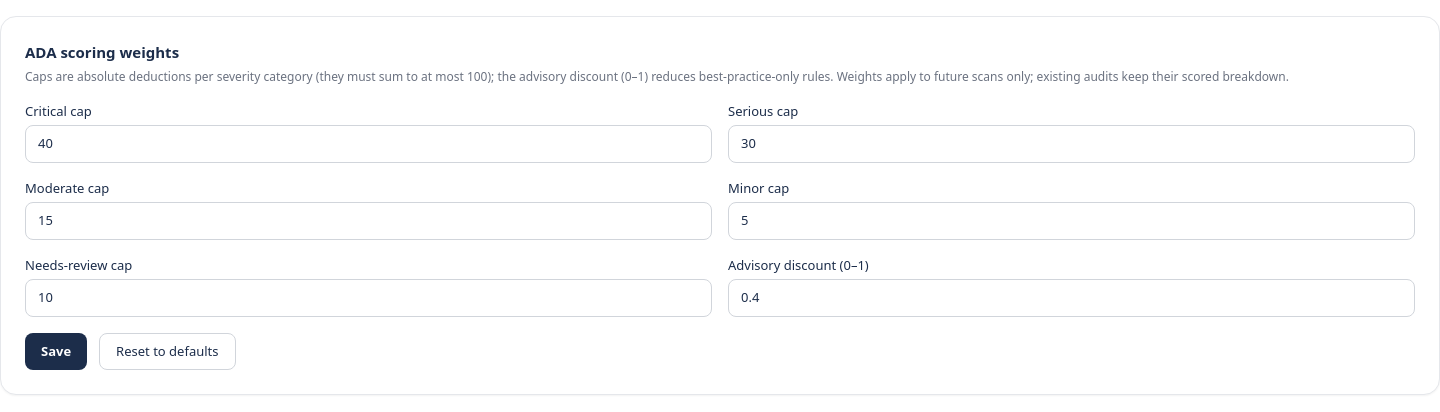
it: AdaScoringWeightsCard › Reset to defaults restores DEFAULT_ADA_V4_WEIGHTS in the inputs
The width and height of the screenshot is (1440, 412).
Replace the text in the number field labelled "Critical cap" with "99": {"x": 368, "y": 144} [25,125,712,162]
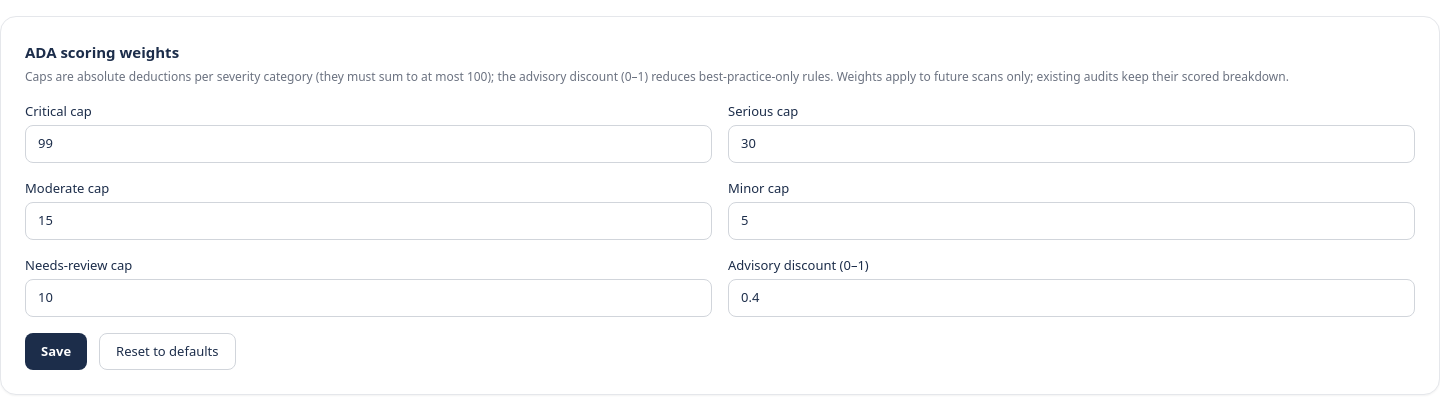
Click the button "Reset to defaults": {"x": 167, "y": 351} [99,332,236,370]
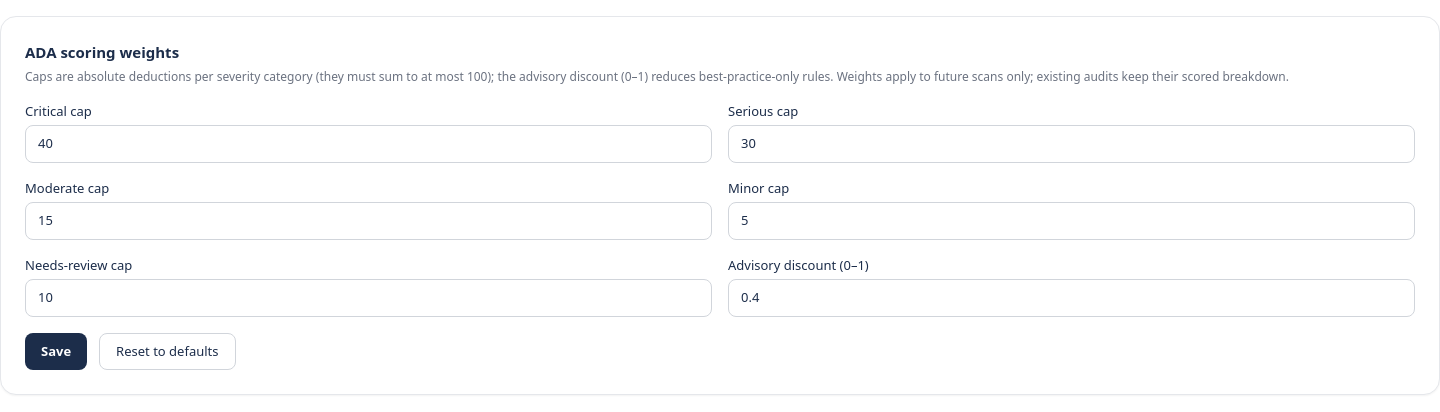
Result: the number field labelled "Critical cap" holds "40" at [25,125,712,162]
